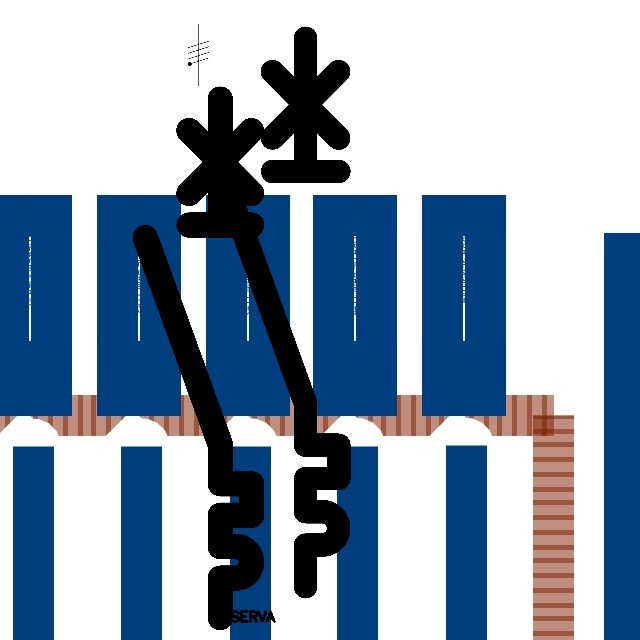interruptor_termomagnetico: (212, 24, 353, 601), (132, 85, 265, 630)
